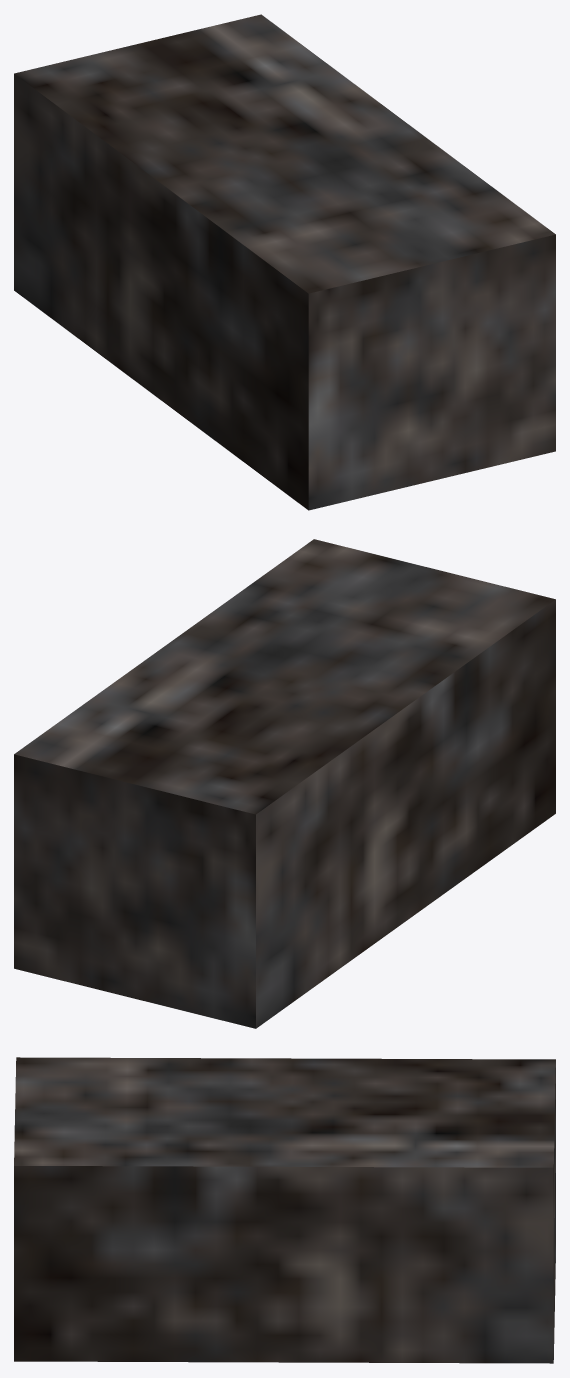
3 renders of one model, top to bottom at view 1: azimuth 30°, elevation 25°; view 2: azimuth 150°, elevation 25°; view 3: azimuth 270°, elevation 25°, orthographic. The views are drawn at different scales.
Visible parts, largest first — view 1: SMDImport; view 2: SMDImport; view 3: SMDImport.
Boxes of the visible parts, x1,y1,x2,y2 form: SMDImport: [14, 14, 555, 510]; SMDImport: [14, 539, 555, 1028]; SMDImport: [14, 1057, 555, 1363].
Bounding box in the file's own units: 17.25 × 14.26 × 35.8.
